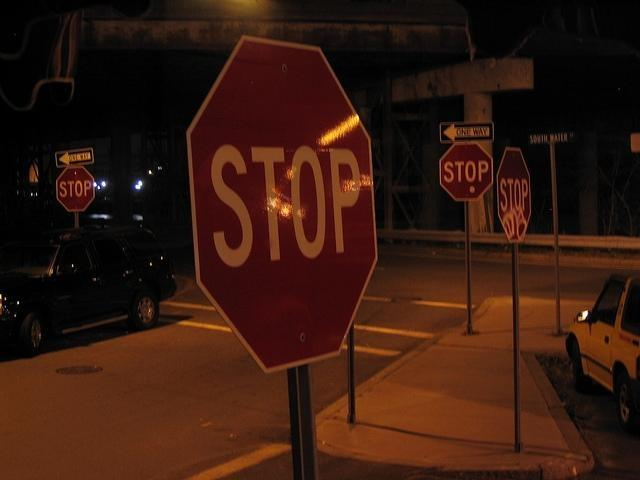car: (0, 224, 178, 356), (565, 276, 640, 426)
